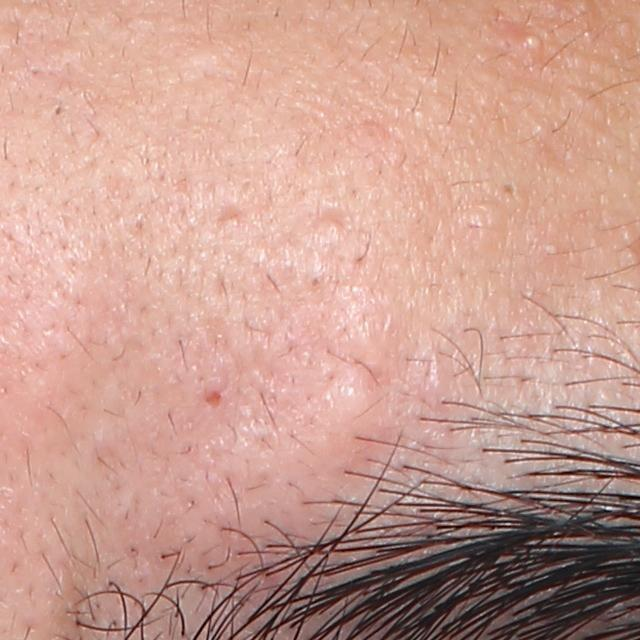comedo: (312, 214, 350, 244), (46, 100, 70, 121), (499, 177, 519, 199)
hypertrophic_scar: (291, 352, 418, 466)
